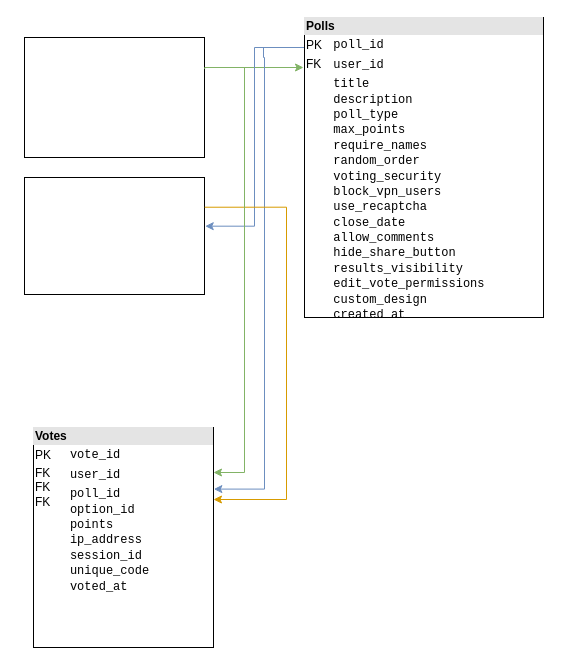
Some shapes in this 562 by 665 pixel diagram are drawn without their labels. The centre of each missing label's shape, as x and y in pixels:
Options PK option_id FK poll_id option_text option_image_url: point 114,235
Users PK user_id username email password_hash password_salt created_at: point 114,97
